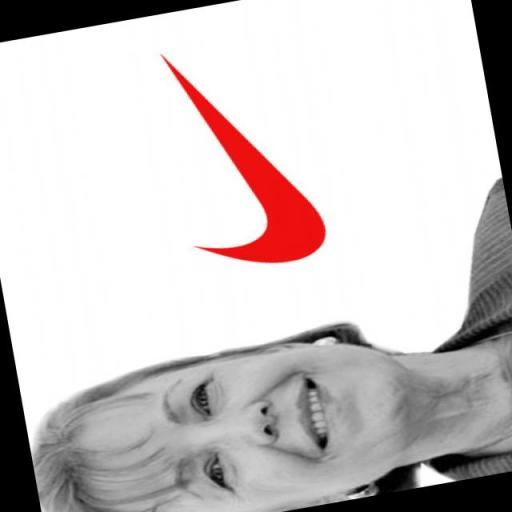Nike: (161, 34, 332, 277)
